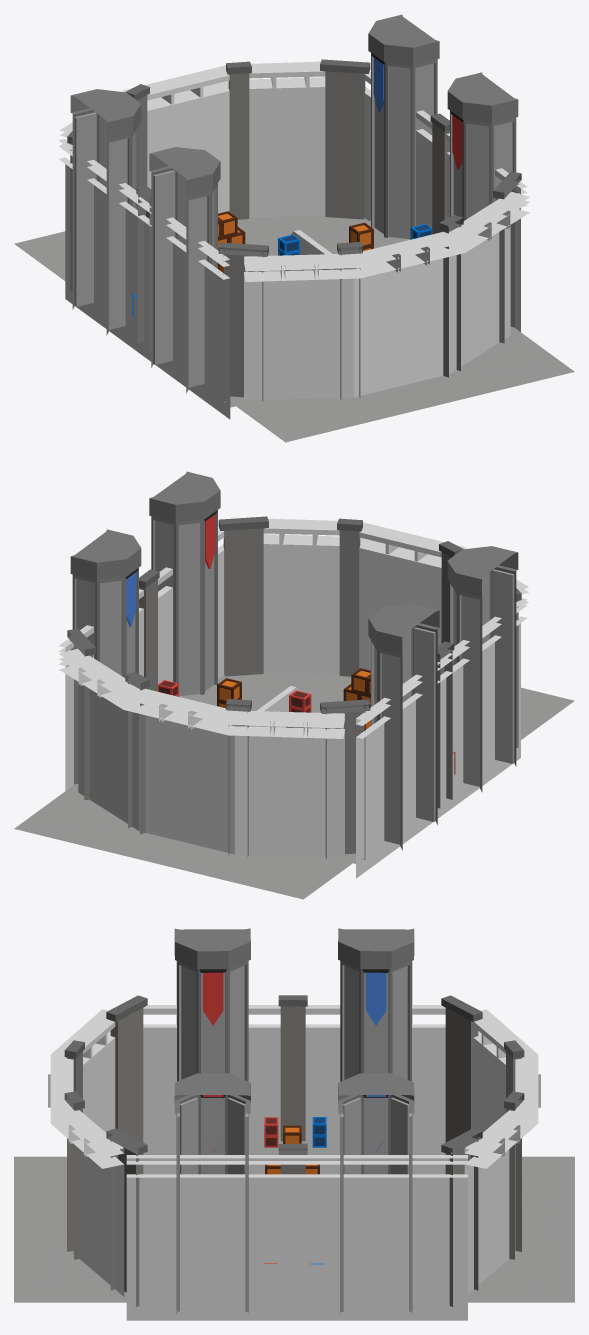
File: Map.fbx
3 views of the same model, one above another, from view 1: azimuth 30°, elevation 25°; view 2: azimuth 150°, elevation 25°; view 3: azimuth 270°, elevation 25° (orthographic). The views are drawn at different scales.
Parts seen in each view (by area): view 1: Cube.083, Cylinder, Cube.073, Cube.015, Cube.018, Cube.084, Cube.013, Cube.035, Cube.074, Cube.019, Cube.014, Cube.008 (+1 smaller); view 2: Cube.083, Cylinder, Cube.073, Cube.015, Cube.018, Cube.084, Cube.013, Cube.035, Cube.074, Cube.019, Cube.014, Cube.008 (+1 smaller); view 3: Cube.073, Cylinder, Cube.015, Cube.083, Cube.018, Cube.084, Cube.074, Cube.013, Cube.035, Cube.019, Cube.007, Cube.014 (+3 smaller).
Part boxes in pixels (x1,y1,x2,y2): Cube.083: [60, 77, 529, 400]; Cylinder: [70, 14, 518, 393]; Cube.073: [59, 87, 527, 419]; Cube.015: [14, 215, 574, 442]; Cube.018: [70, 71, 518, 403]; Cube.084: [60, 61, 529, 271]; Cube.013: [137, 73, 460, 399]; Cube.035: [138, 123, 449, 352]; Cube.074: [58, 71, 527, 266]; Cube.019: [67, 59, 521, 256]; Cube.014: [125, 61, 463, 254]; Cube.008: [310, 222, 410, 253]; Cube.083: [59, 534, 528, 857]; Cylinder: [70, 471, 518, 850]; Cube.073: [59, 544, 527, 878]; Cube.015: [14, 672, 574, 899]; Cube.018: [70, 528, 518, 859]; Cube.084: [59, 518, 528, 728]; Cube.013: [128, 530, 451, 856]; Cube.035: [139, 579, 452, 808]; Cube.074: [58, 528, 527, 725]; Cube.019: [67, 516, 521, 713]; Cube.014: [125, 518, 463, 711]; Cube.008: [179, 679, 278, 710]; Cube.073: [126, 1024, 467, 1320]; Cylinder: [174, 928, 414, 1313]; Cube.015: [14, 1156, 574, 1302]; Cube.083: [50, 1031, 538, 1296]; Cube.018: [110, 1008, 478, 1306]; Cube.084: [50, 1009, 538, 1157]; Cube.074: [126, 1005, 467, 1164]; Cube.013: [67, 1052, 521, 1259]; Cube.035: [280, 1006, 305, 1174]; Cube.019: [106, 995, 482, 1154]; Cube.007: [248, 1140, 340, 1174]; Cube.014: [64, 1040, 524, 1109].
Bounding box in the file's own units: 15974 × 11330 × 22569.
